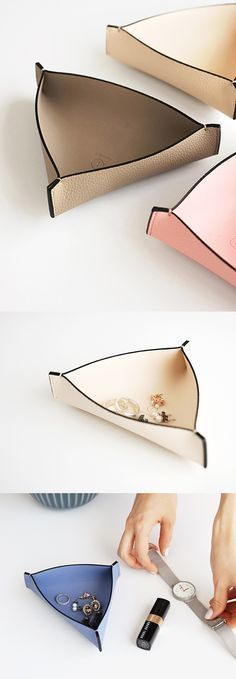cuero: (22, 1, 236, 658)
